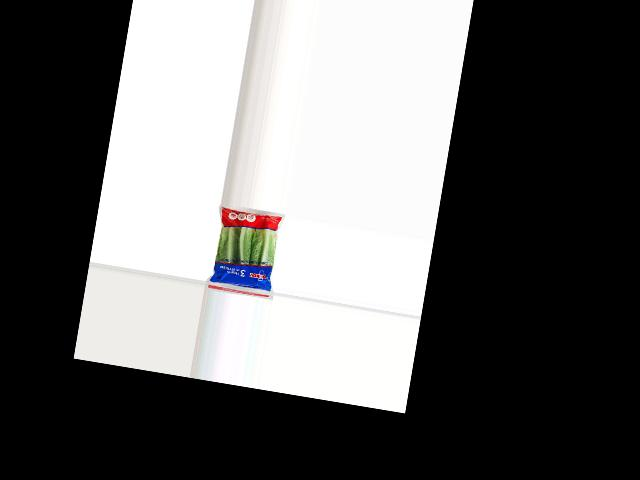lettuce: (208, 203, 284, 293)
